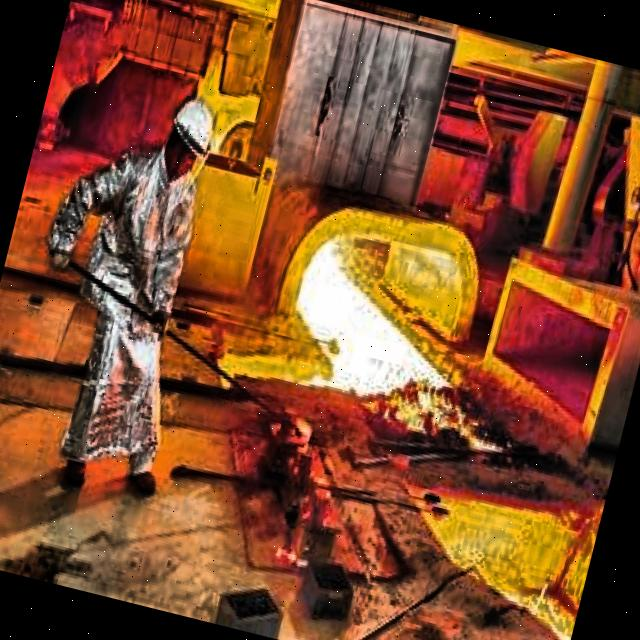helmet: (156, 88, 222, 192)
